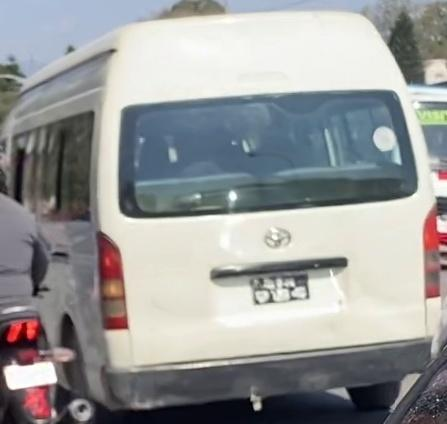license-plate: (252, 273, 321, 305)
